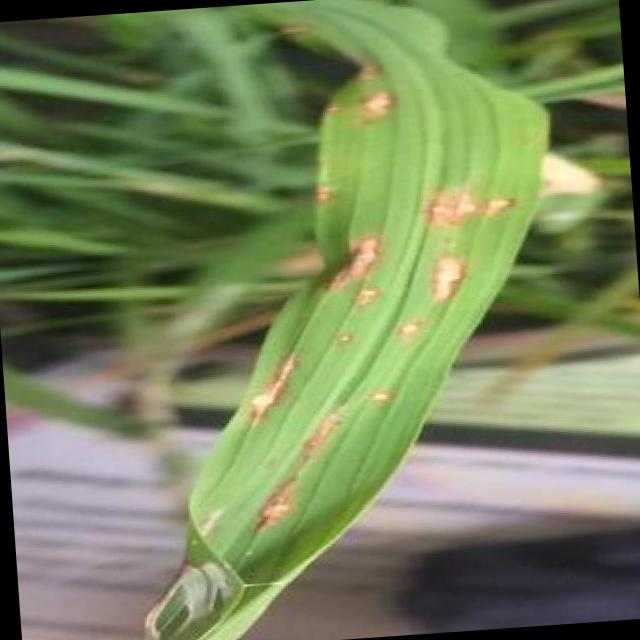Rice_Blast: (227, 322, 316, 420), (298, 214, 399, 300), (215, 461, 318, 543), (260, 404, 369, 476), (412, 172, 518, 228), (407, 239, 472, 307), (336, 38, 401, 98), (346, 66, 402, 128), (379, 297, 434, 358), (304, 82, 358, 134), (290, 165, 344, 215), (342, 276, 394, 321), (316, 314, 366, 360), (348, 373, 398, 414), (277, 5, 322, 45)
